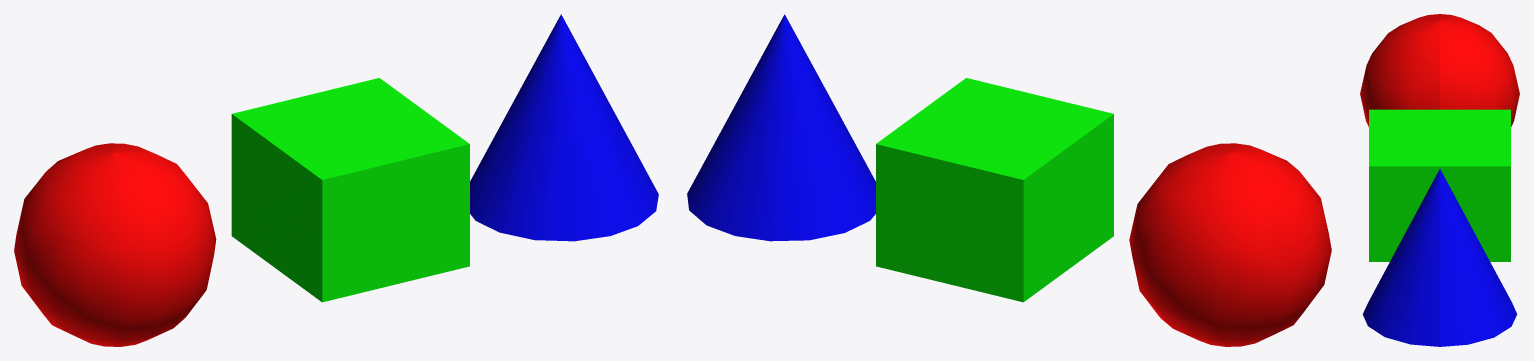
Rendered from testModel-draco.glb.
3 renders of one model, left to right at view 1: azimuth 30°, elevation 25°; view 2: azimuth 150°, elevation 25°; view 3: azimuth 270°, elevation 25°, orthographic. The views are drawn at different scales.
Visible parts, largest first — view 1: Cube, Sphere, Cone; view 2: Cube, Sphere, Cone; view 3: Cube, Cone, Sphere.
Boxes of the visible parts, x1,y1,x2,y2 form: Cube: [231, 78, 469, 302]; Sphere: [14, 143, 216, 346]; Cone: [470, 14, 658, 241]; Cube: [876, 78, 1113, 302]; Sphere: [1129, 143, 1331, 346]; Cone: [687, 14, 875, 241]; Cube: [1369, 109, 1510, 261]; Cone: [1362, 169, 1517, 346]; Sphere: [1360, 14, 1519, 127].
Size of the model in its own units: 0.141 by 0.0467 by 0.0402.
